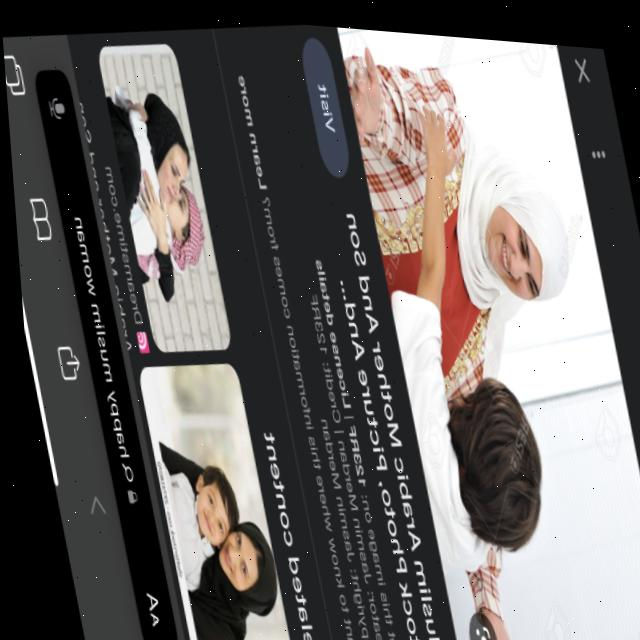happy: (471, 186, 546, 299)
